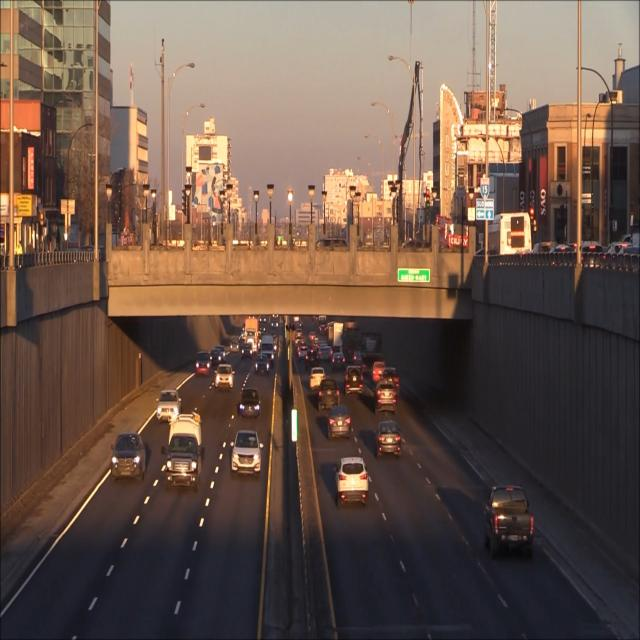Car: (482, 486, 533, 560), (163, 411, 204, 495), (110, 431, 146, 490), (333, 455, 368, 512), (229, 427, 264, 481), (374, 418, 404, 462), (156, 385, 182, 426), (327, 404, 352, 444), (316, 376, 339, 414), (373, 381, 398, 415), (237, 388, 262, 420), (344, 363, 364, 399), (216, 363, 234, 391), (195, 350, 213, 377), (254, 354, 270, 374)
